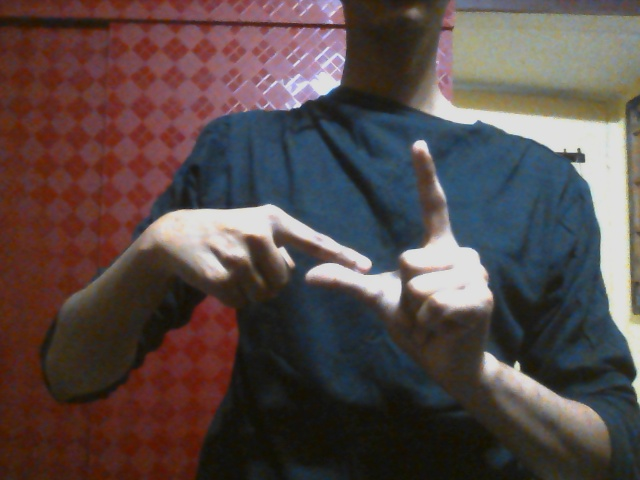J: (170, 140, 494, 369)
